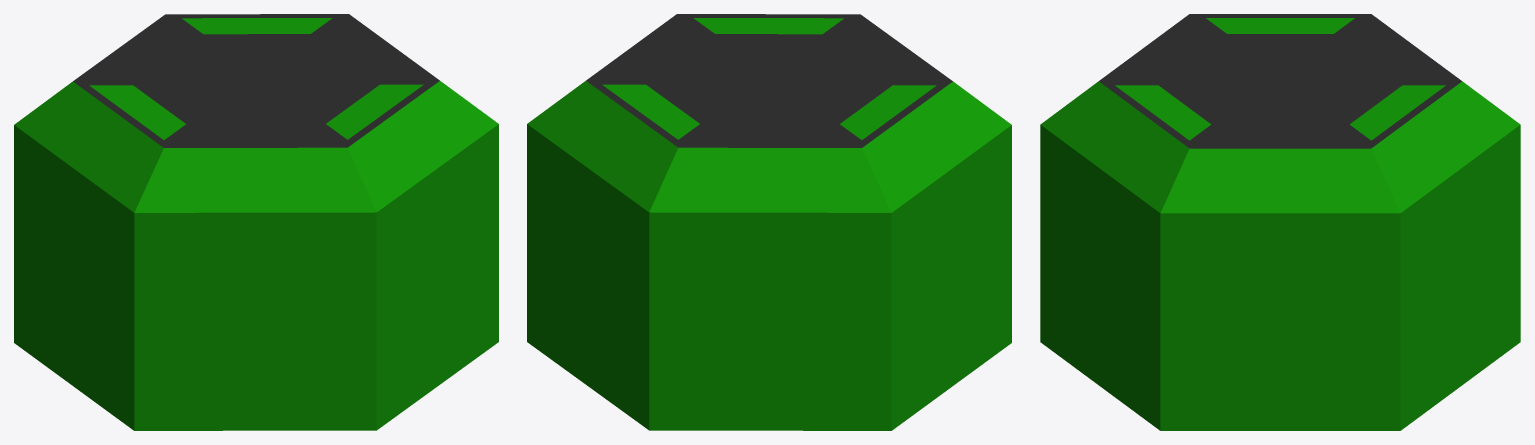
File: TestHexagon.fbx
The picture shows the model from 3 angles, left to right: view 1: azimuth 30°, elevation 25°; view 2: azimuth 150°, elevation 25°; view 3: azimuth 270°, elevation 25°; orthographic projection.
Visible parts, largest first — view 1: SM_Module_Armour1_BO; view 2: SM_Module_Armour1_BO; view 3: SM_Module_Armour1_BO.
Part boxes in pixels (<box>): SM_Module_Armour1_BO: <box>14,14,498,430</box>; SM_Module_Armour1_BO: <box>527,14,1011,430</box>; SM_Module_Armour1_BO: <box>1040,14,1520,430</box>.
Size of the model in its own units: 3.5 by 2.4 by 4.
